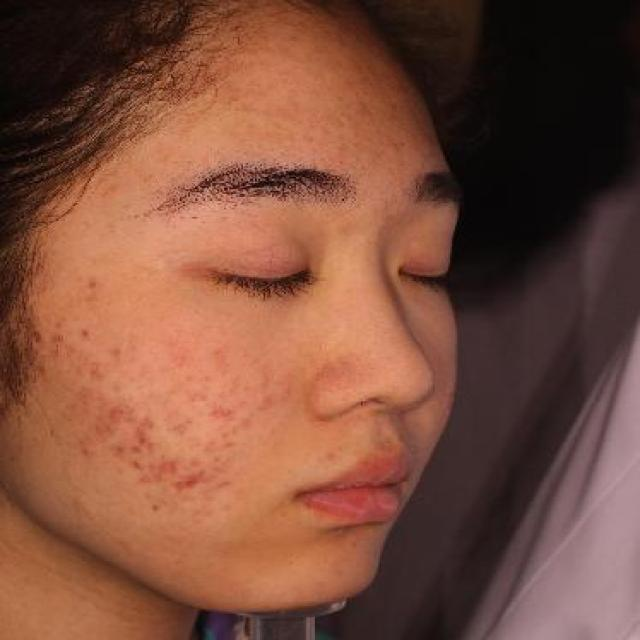Acne: (170, 462, 208, 492)
Blackheads: (73, 325, 99, 343), (144, 497, 166, 517), (82, 276, 107, 292)
